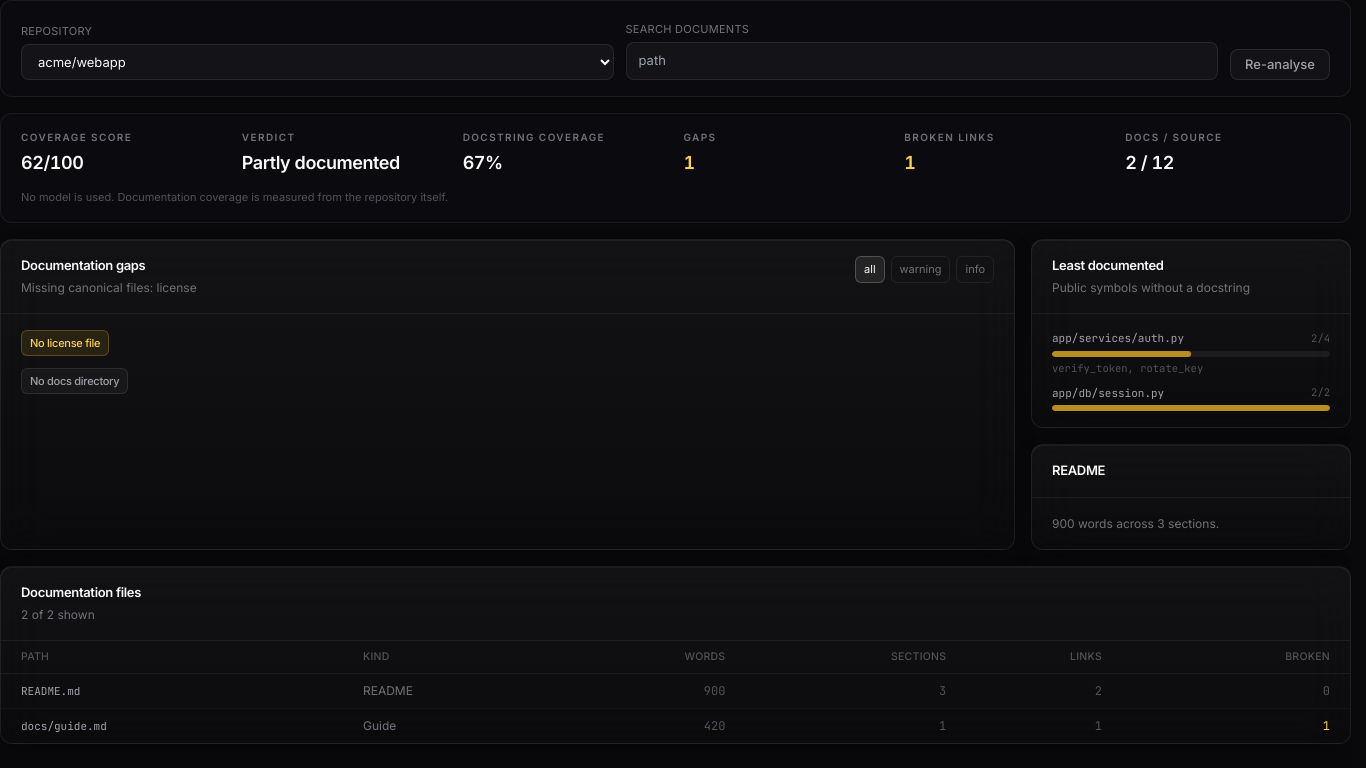
RepositoryDocumentationPanel › filters gaps by severity
Expected: the text "No license file" is shown, [21,330,109,356]
Click the button "info": (975, 270) [956,256,994,283]
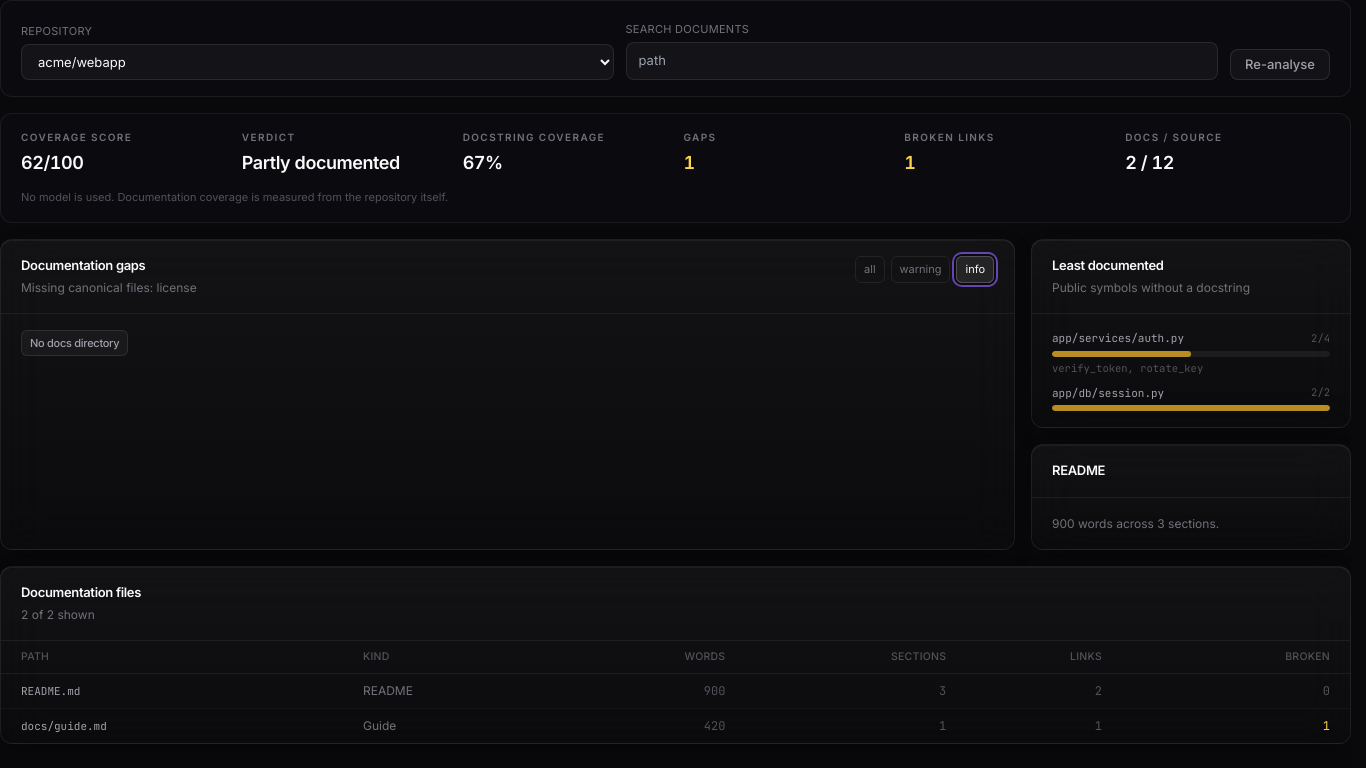
Expected: the text "No docs directory" is shown, [21,330,128,356]
Now the text "No license file" is gone
